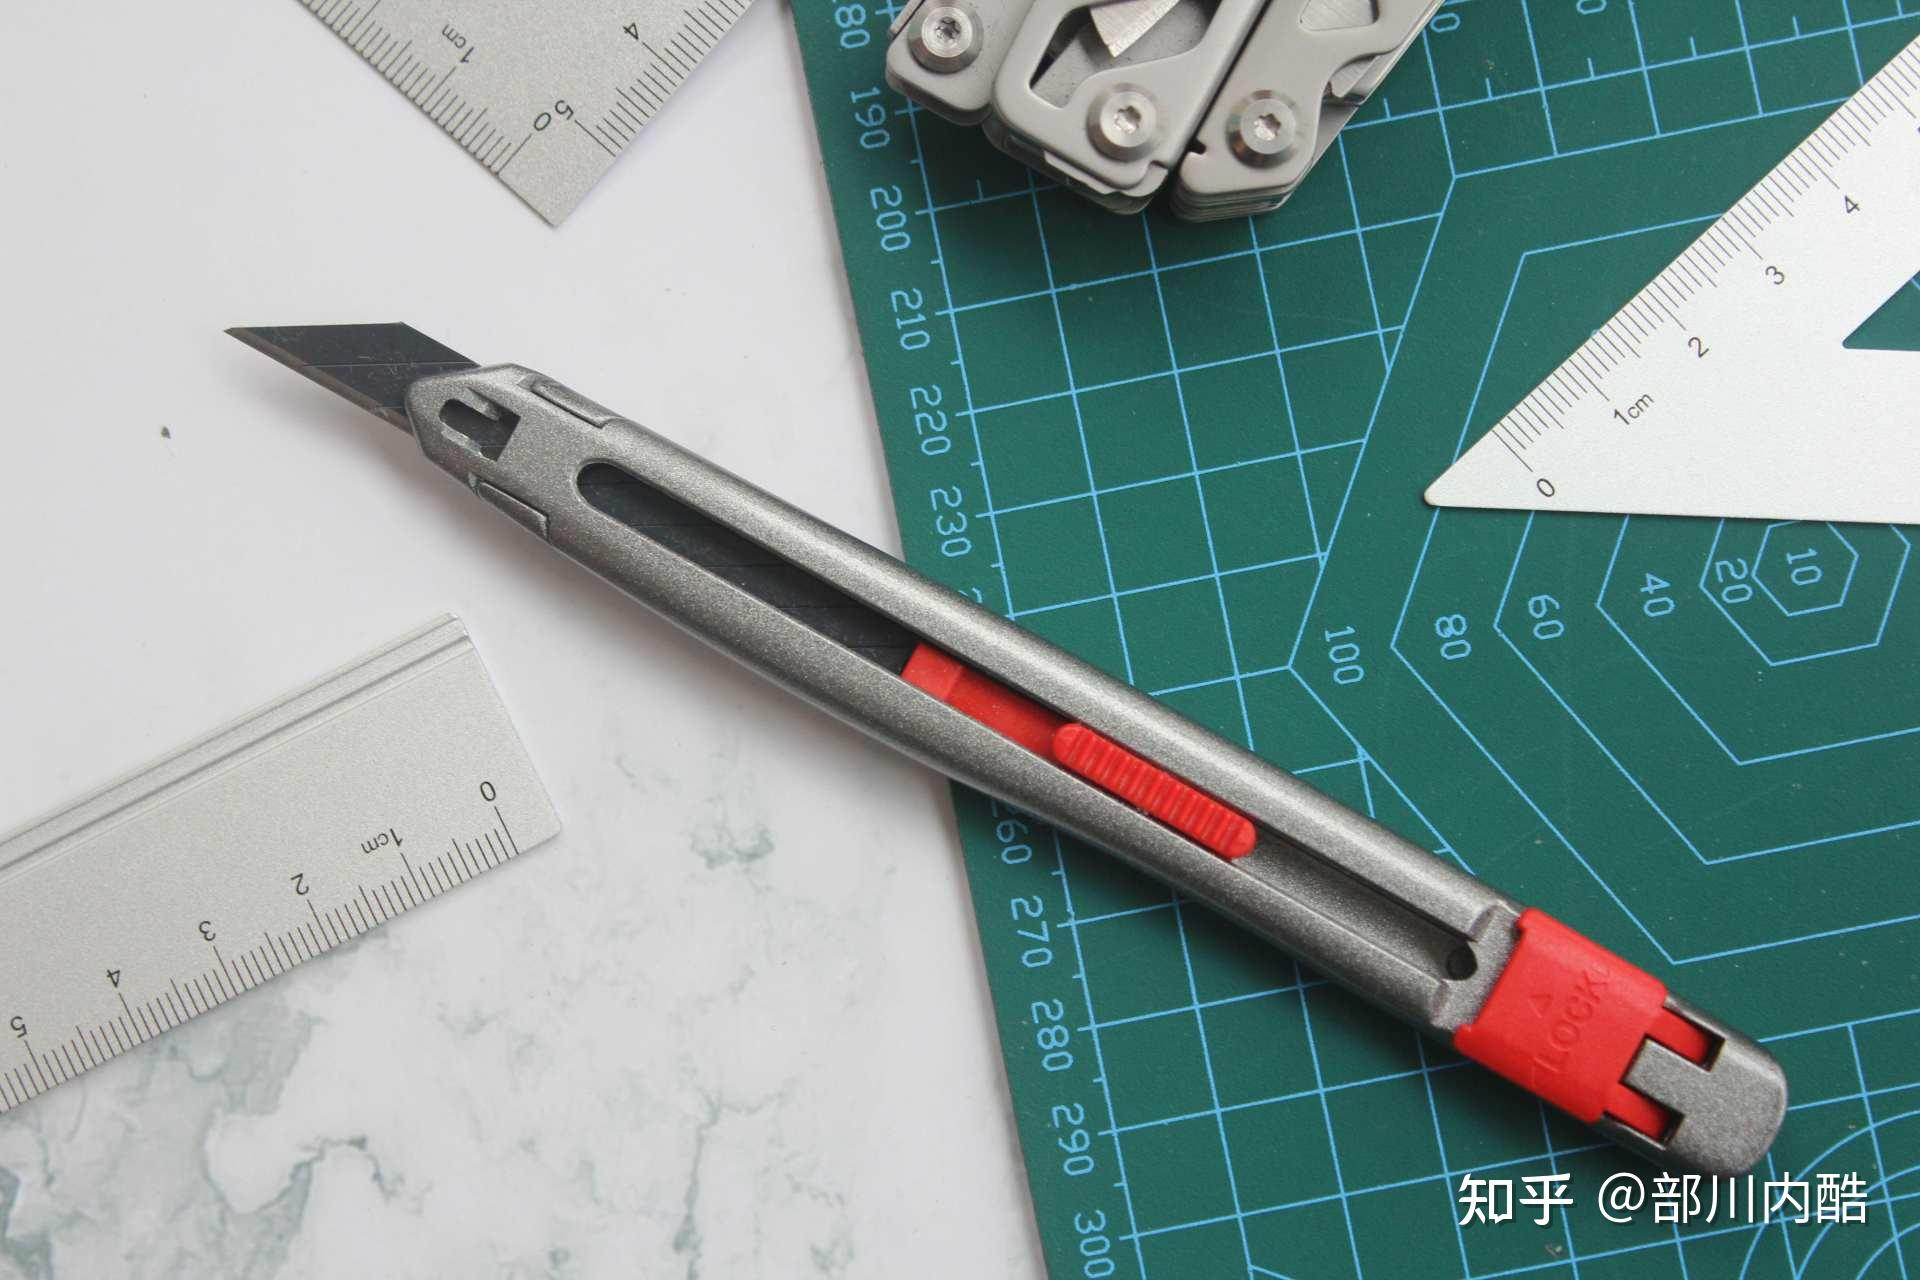cutter: (217, 321, 1796, 1173)
